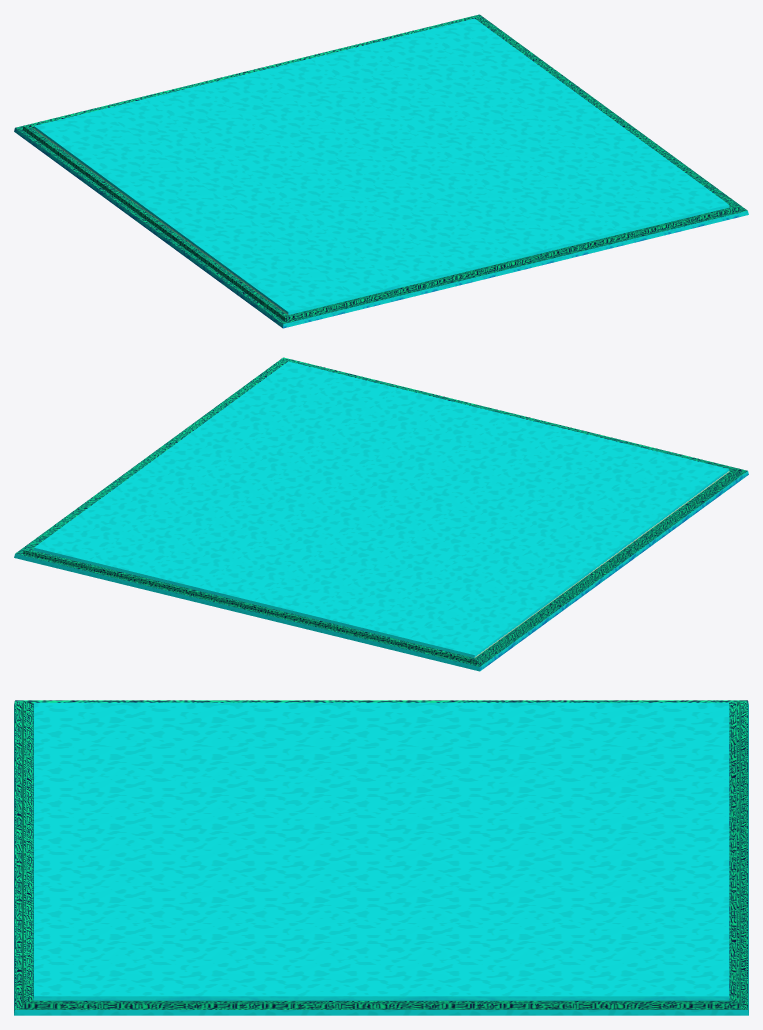
The model's file is SM_Piramide_Terrain_01.fbx.
The picture shows the model from 3 angles, top to bottom: view 1: azimuth 30°, elevation 25°; view 2: azimuth 150°, elevation 25°; view 3: azimuth 270°, elevation 25°; orthographic projection. The views are drawn at different scales.
Visible parts, largest first — view 1: SM_Piramide_Terrain_01; view 2: SM_Piramide_Terrain_01; view 3: SM_Piramide_Terrain_01.
Part boxes in pixels (left/top/right/bottom): SM_Piramide_Terrain_01: left=14, top=14, right=748, bottom=328; SM_Piramide_Terrain_01: left=14, top=357, right=748, bottom=671; SM_Piramide_Terrain_01: left=14, top=700, right=748, bottom=1015.
Size of the model in its own units: 154 by 2.52 by 154.
Materials: 1 (1 with a texture image).
